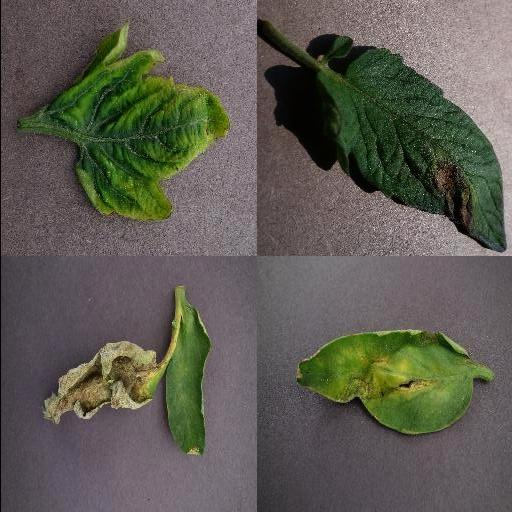Late Blight: (312, 47, 506, 253), (293, 328, 477, 434), (38, 339, 160, 425)
Yellow Leaf Curl Virus: (39, 22, 229, 222)
